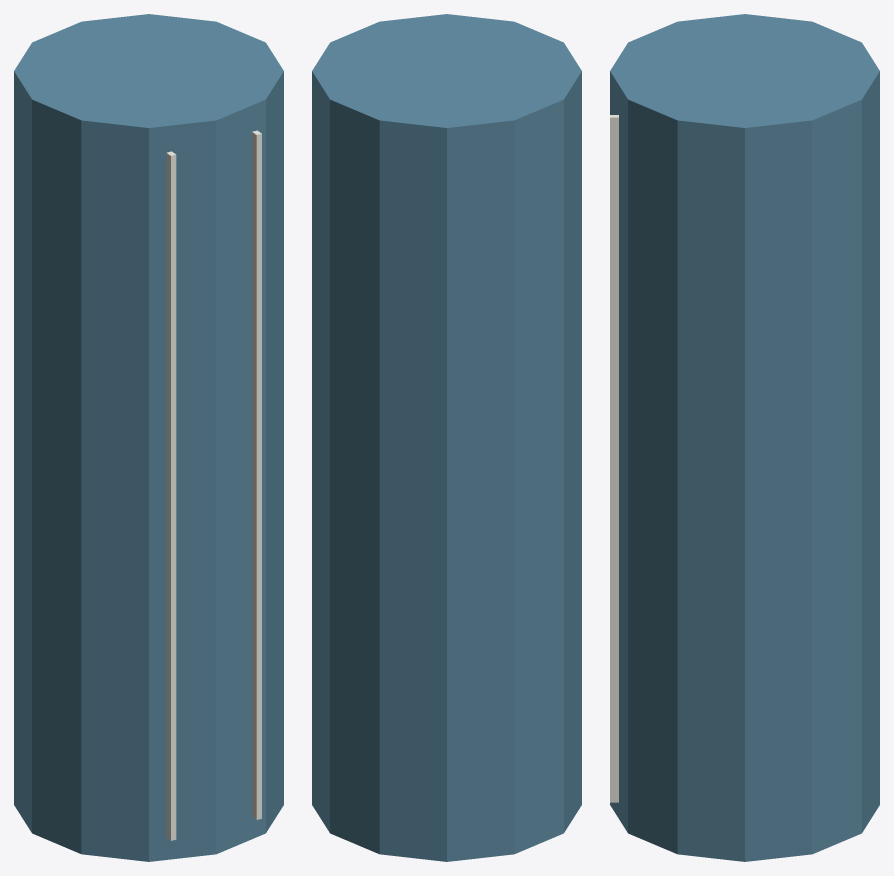
File: american-football-stadium-kit-goalpost-pad-1ca8c35d__22334.glb
The picture shows the model from 3 angles, left to right: view 1: azimuth 30°, elevation 25°; view 2: azimuth 150°, elevation 25°; view 3: azimuth 270°, elevation 25°; orthographic projection.
Visible parts, largest first — view 1: goalpost-pad; view 2: goalpost-pad; view 3: goalpost-pad.
Part boxes in pixels (left/top/right/bottom): goalpost-pad: left=14, top=14, right=283, bottom=861; goalpost-pad: left=312, top=14, right=581, bottom=861; goalpost-pad: left=610, top=14, right=879, bottom=861.
Bounding box in the file's own units: 0.5999 × 1.8 × 0.6.
